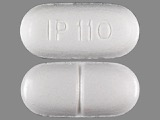Acetaminophen 325 MG Oral Tablet: (17, 1, 141, 60), (17, 61, 143, 119)
